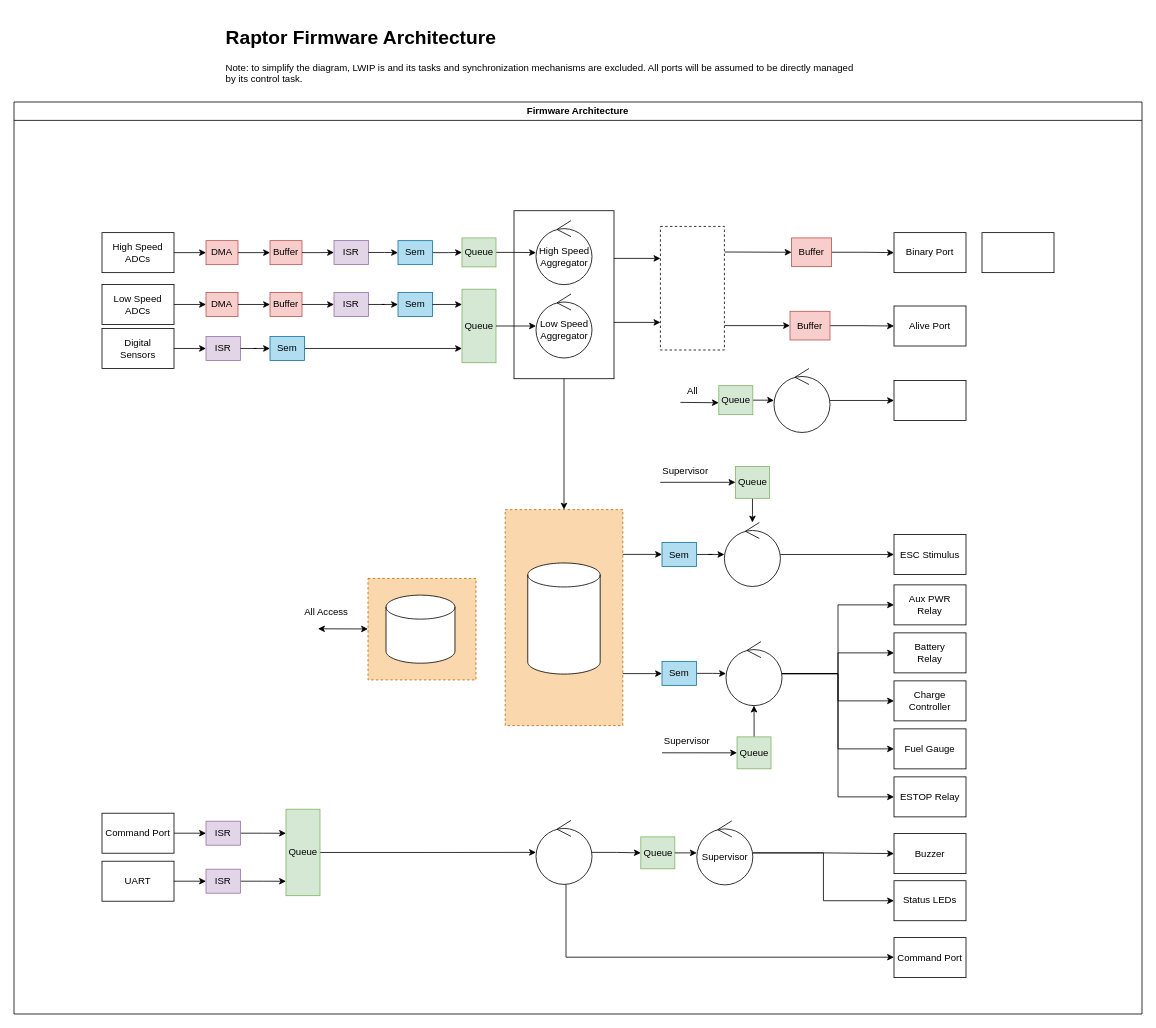
The diagram is 1156 pixels wide and 1028 high, and some of its shapes have lost their labels. Each missing label, with the centre of its shape:
"Command Server" belongs at [563,852].
"Filtering / Down-sampling" belongs at [692,288].
"Local Data Store" belongs at [563,618].
"Logger" belongs at [801,400].
"Logging Port" belongs at [929,400].
"Power Controller" belongs at [753,673].
"SDMMC" belongs at [1017,252].
"System Registers" belongs at [420,628].
"Thrust Controller" belongs at [752,554].
